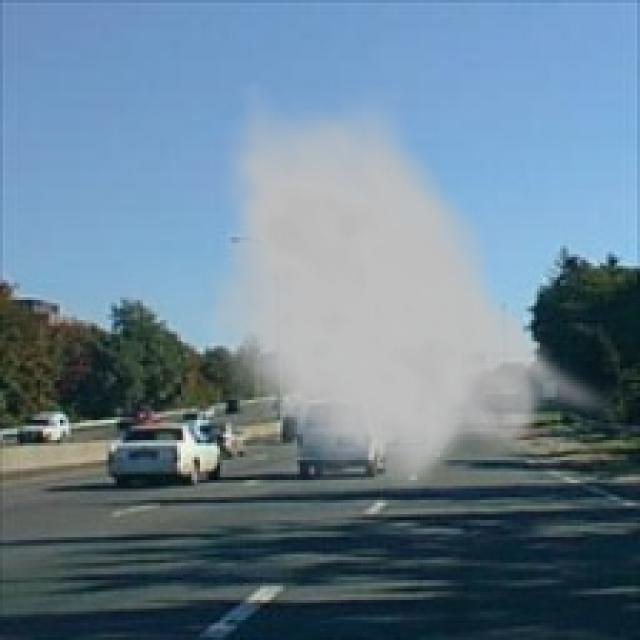Smoke: (203, 80, 623, 500)
